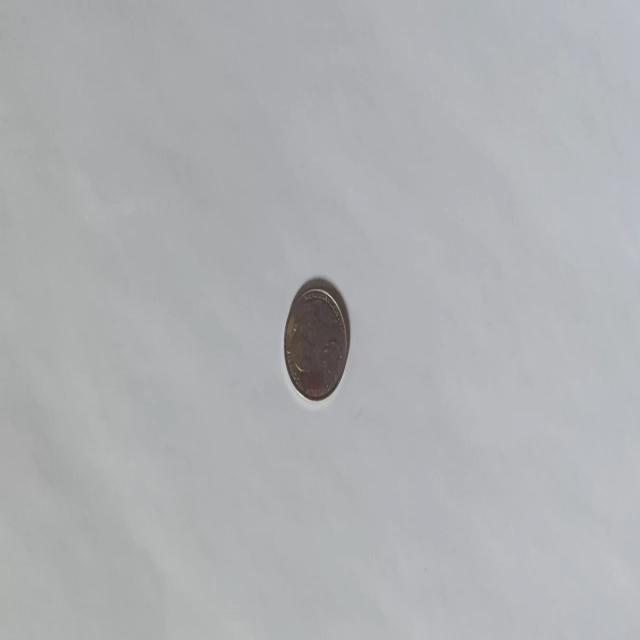seribu rupiah koin: (282, 277, 350, 403)
